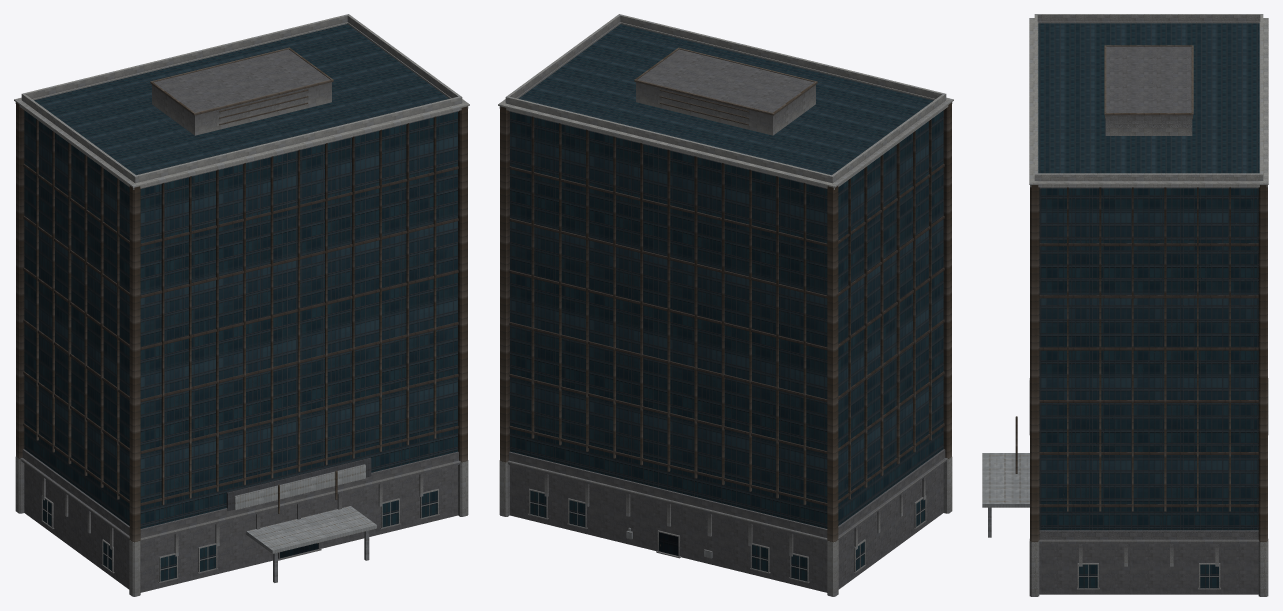
Rendered from downtown-hotel_lod0.gltf.
The picture shows the model from 3 angles, left to right: view 1: azimuth 30°, elevation 25°; view 2: azimuth 150°, elevation 25°; view 3: azimuth 270°, elevation 25°; orthographic projection.
Visible parts, largest first — view 1: downtown-hotel_upper, downtown-hotel__v4_metal_detail, downtown-hotel__v4_stone_detail, downtown-hotel_base, downtown-hotel__porte_cochere, downtown-hotel_fen_07-glass-curtain-blue_3, downtown-hotel__sign_band, downtown-hotel_fen_06-granite_0, downtown-hotel__sign_frame; view 2: downtown-hotel_upper, downtown-hotel__v4_metal_detail, downtown-hotel__v4_stone_detail, downtown-hotel_base, downtown-hotel_fen_07-glass-curtain-blue_3, downtown-hotel_fen_06-granite_0; view 3: downtown-hotel_upper, downtown-hotel__v4_stone_detail, downtown-hotel__v4_metal_detail, downtown-hotel_base, downtown-hotel__porte_cochere, downtown-hotel_fen_07-glass-curtain-blue_3, downtown-hotel_fen_06-granite_0.
Part boxes in pixels (bbox=[...]): downtown-hotel_upper: bbox=[24, 24, 457, 528]; downtown-hotel__v4_metal_detail: bbox=[16, 47, 467, 542]; downtown-hotel__v4_stone_detail: bbox=[14, 14, 469, 596]; downtown-hotel_base: bbox=[24, 463, 457, 592]; downtown-hotel__porte_cochere: bbox=[246, 506, 376, 553]; downtown-hotel_fen_07-glass-curtain-blue_3: bbox=[43, 490, 437, 581]; downtown-hotel__sign_band: bbox=[234, 464, 365, 510]; downtown-hotel_fen_06-granite_0: bbox=[41, 488, 439, 583]; downtown-hotel__sign_frame: bbox=[226, 457, 371, 510]; downtown-hotel_upper: bbox=[510, 24, 943, 528]; downtown-hotel__v4_metal_detail: bbox=[500, 47, 951, 542]; downtown-hotel__v4_stone_detail: bbox=[498, 14, 953, 596]; downtown-hotel_base: bbox=[510, 463, 943, 592]; downtown-hotel_fen_07-glass-curtain-blue_3: bbox=[530, 490, 924, 581]; downtown-hotel_fen_06-granite_0: bbox=[528, 488, 926, 583]; downtown-hotel_upper: bbox=[1038, 23, 1259, 530]; downtown-hotel__v4_stone_detail: bbox=[1029, 14, 1268, 596]; downtown-hotel__v4_metal_detail: bbox=[1015, 45, 1267, 541]; downtown-hotel_base: bbox=[1039, 544, 1258, 594]; downtown-hotel__porte_cochere: bbox=[982, 453, 1029, 507]; downtown-hotel_fen_07-glass-curtain-blue_3: bbox=[1079, 564, 1218, 588]; downtown-hotel_fen_06-granite_0: bbox=[1077, 563, 1220, 589].
Bounding box in the file's own units: 51.6 × 63.32 × 37.8.
